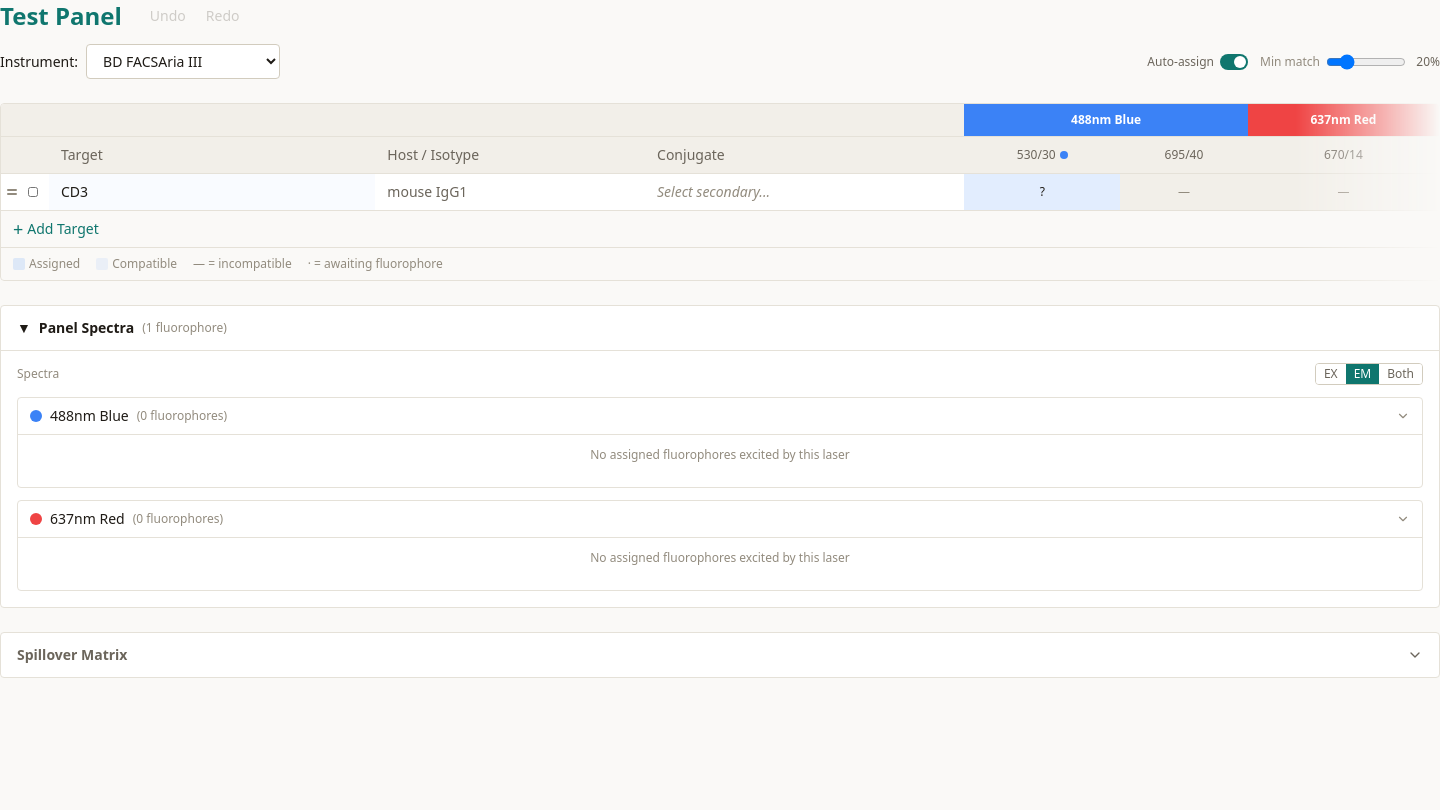
Test: PanelDesigner › changing instrument shows modal with 3 options if assignments exist
Select "Select an instrument..." in the dropdown labelled "Instrument:" at (183, 62), box x1=86 y1=44 x2=280 y2=79
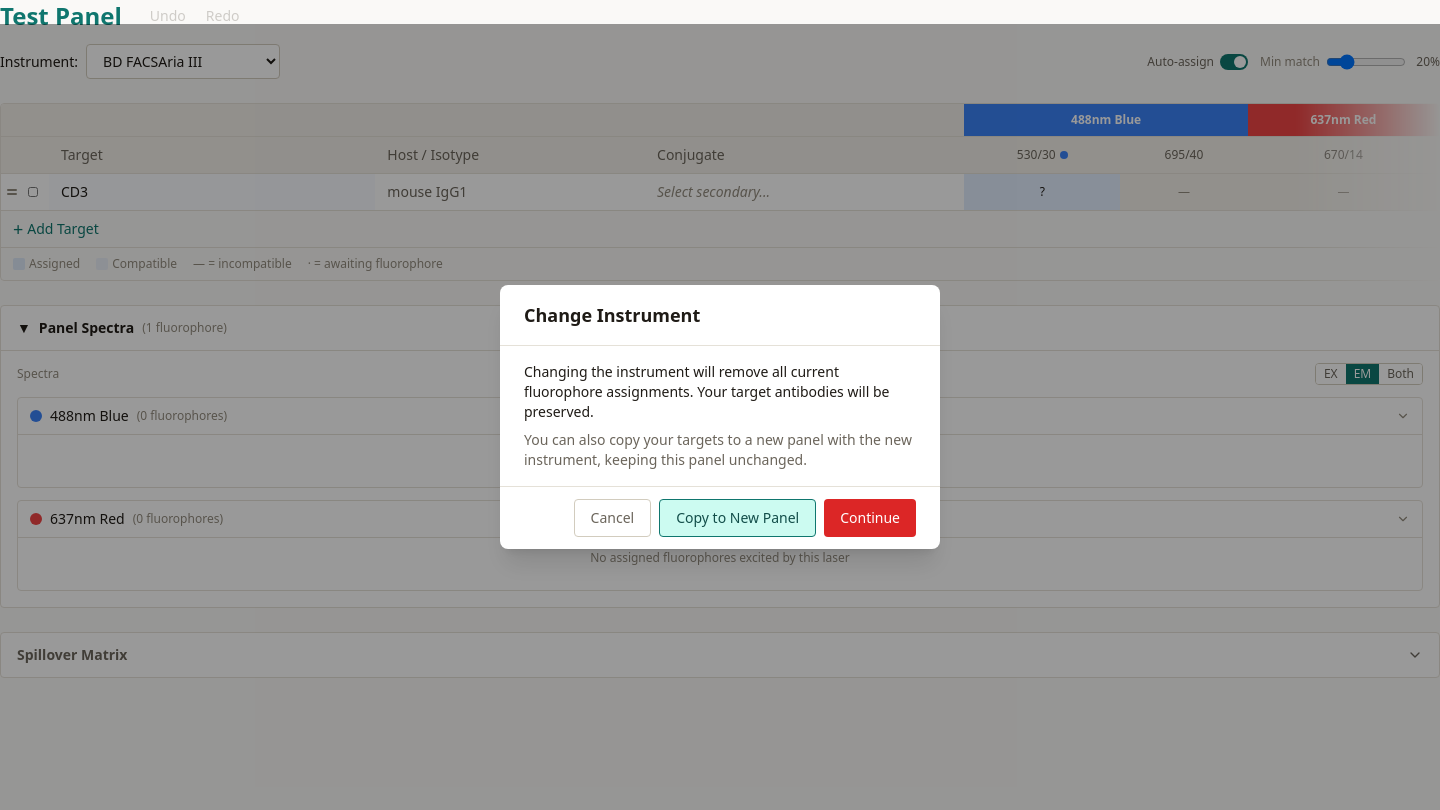
Expected: the heading "Change Instrument" is shown, x1=524 y1=303 x2=700 y2=327
Expected: the button "Cancel" is shown
Expected: the button "Copy to New Panel" is shown, x1=659 y1=499 x2=816 y2=537
# Cancel should dismiss the modal
Click the button "Cancel" at (612, 518), box x1=574 y1=499 x2=651 y2=537
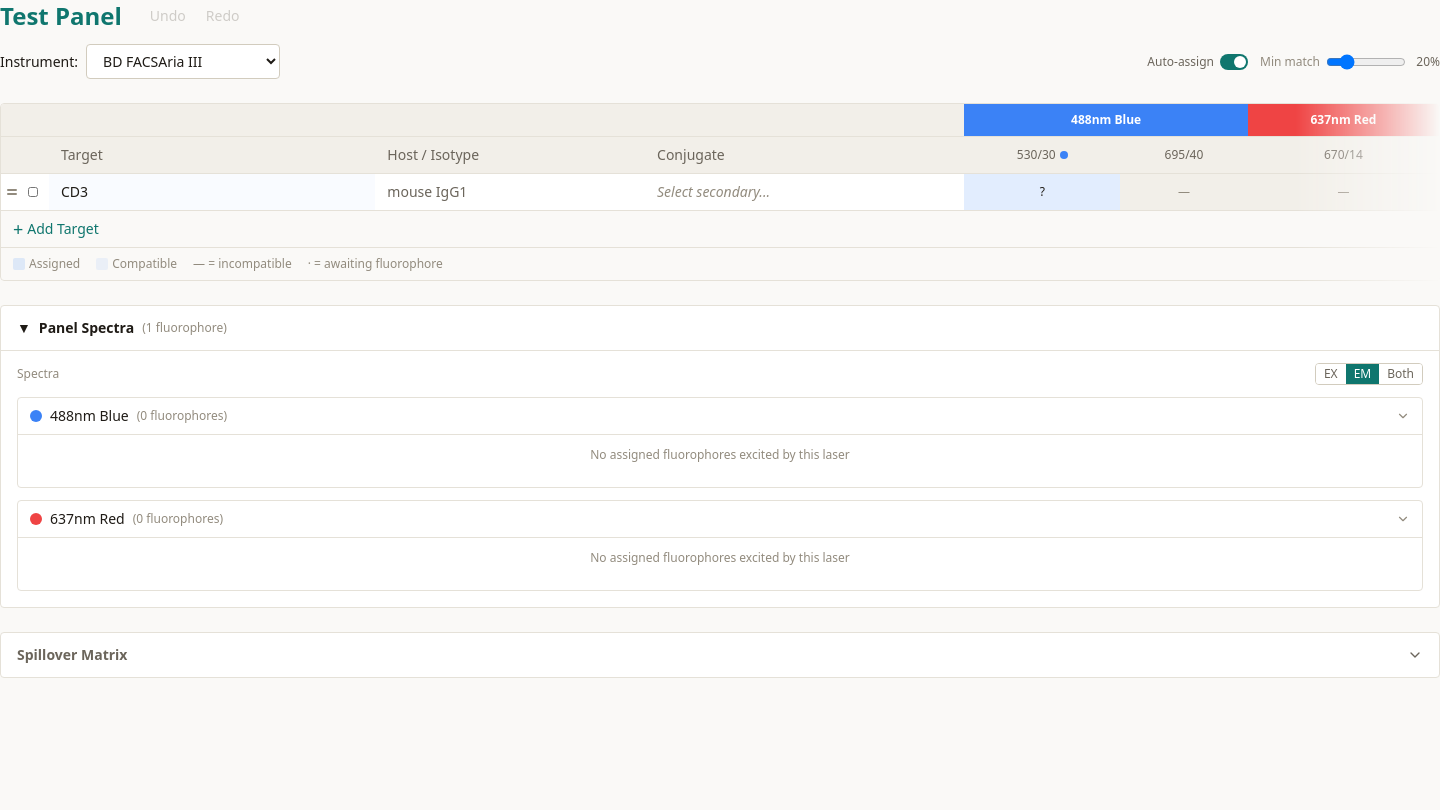
Expected: the heading "Change Instrument" is gone
